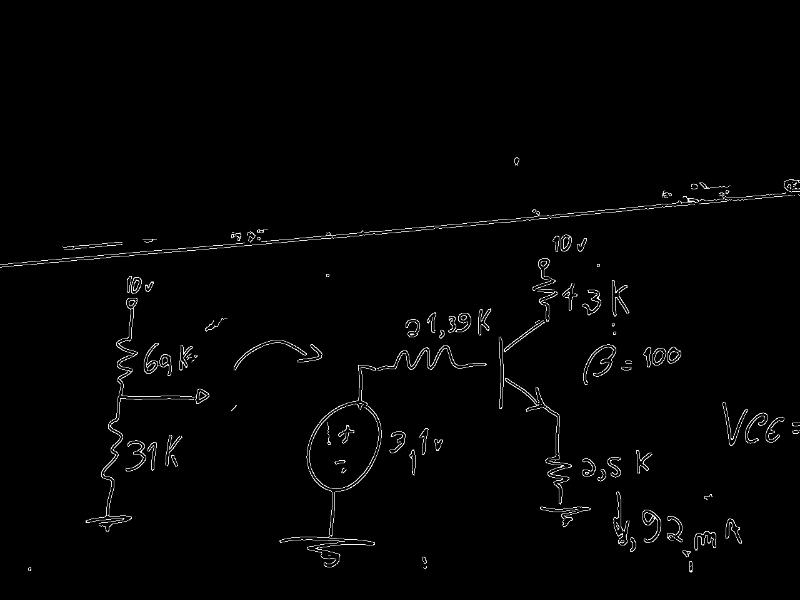-: (333, 457, 347, 467), (620, 364, 632, 372), (789, 428, 800, 436), (789, 421, 800, 428), (623, 359, 634, 365)
0: (665, 345, 683, 366), (650, 347, 668, 366), (559, 233, 573, 253), (130, 276, 143, 296)
1: (146, 441, 159, 473), (417, 427, 430, 457), (426, 311, 438, 335), (641, 344, 652, 369), (125, 274, 133, 294), (551, 235, 560, 252)
2: (665, 513, 686, 544), (403, 317, 421, 340), (579, 457, 597, 478)
3: (123, 438, 148, 473), (580, 288, 603, 317), (387, 429, 407, 457), (446, 315, 457, 335)
4: (561, 282, 578, 312)
5: (605, 456, 622, 479)
6: (639, 507, 663, 544), (142, 342, 159, 376)
9: (158, 353, 174, 377), (455, 311, 472, 333)
A: (723, 518, 744, 547)
V: (721, 401, 749, 448), (575, 235, 588, 254), (142, 279, 156, 294), (433, 438, 444, 453)
k: (610, 278, 630, 319), (163, 433, 184, 470), (177, 343, 195, 373), (634, 447, 654, 474), (476, 307, 493, 337)
m: (692, 530, 718, 553)
